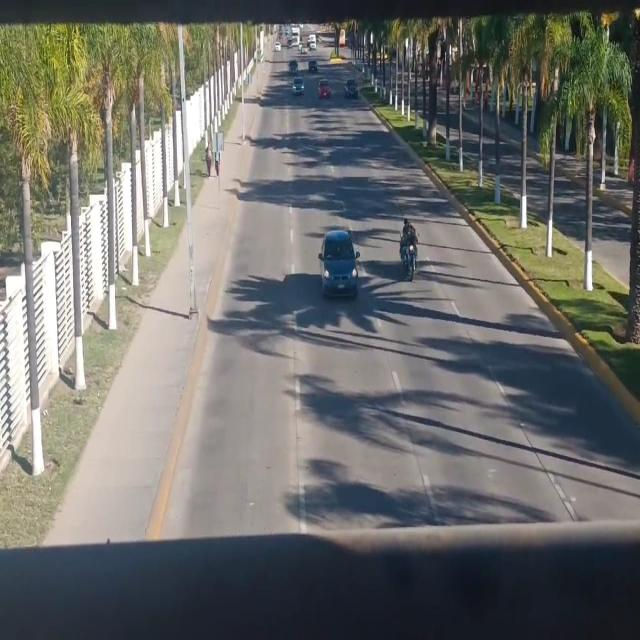Auto: (320, 234, 361, 298)
